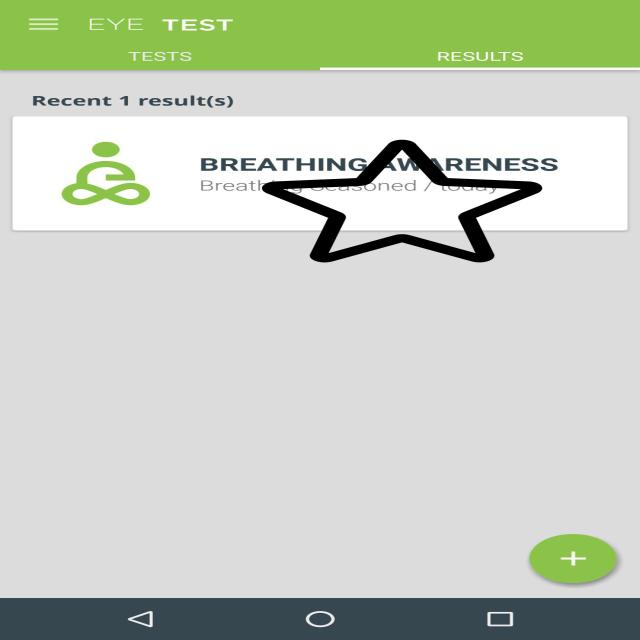forced continuity: (262, 137, 542, 265)
